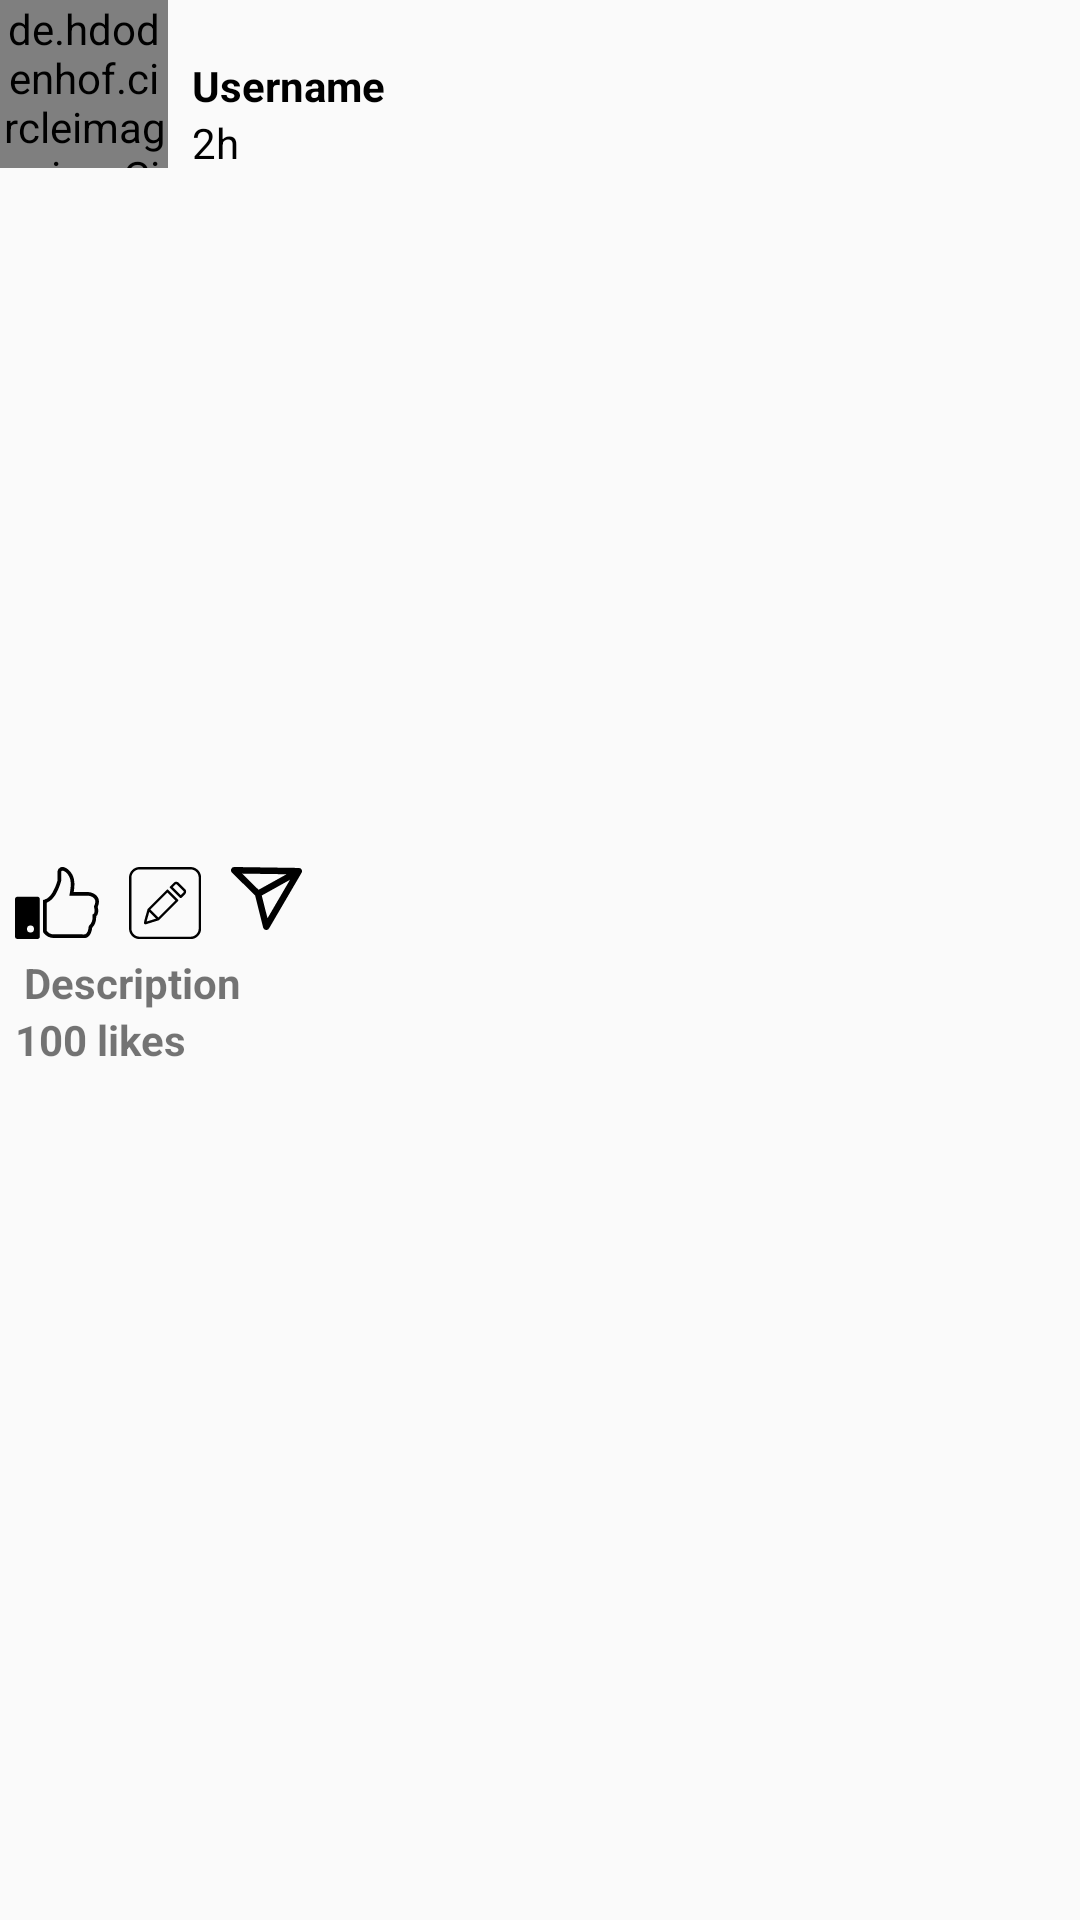

Icons on this 1080 × 1920 Android screen, each with its box as [left=x1, top=y1, right=x2, bottom=y2]:
share: [left=231, top=867, right=302, bottom=930]
